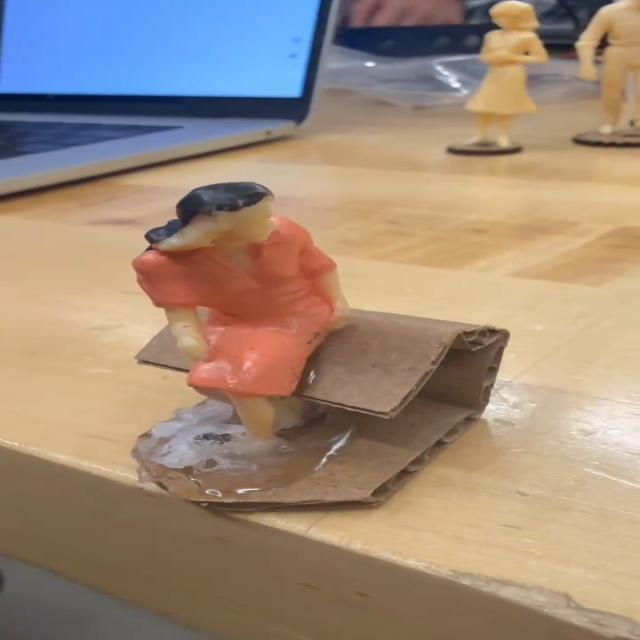Authorized: (110, 177, 380, 469)
